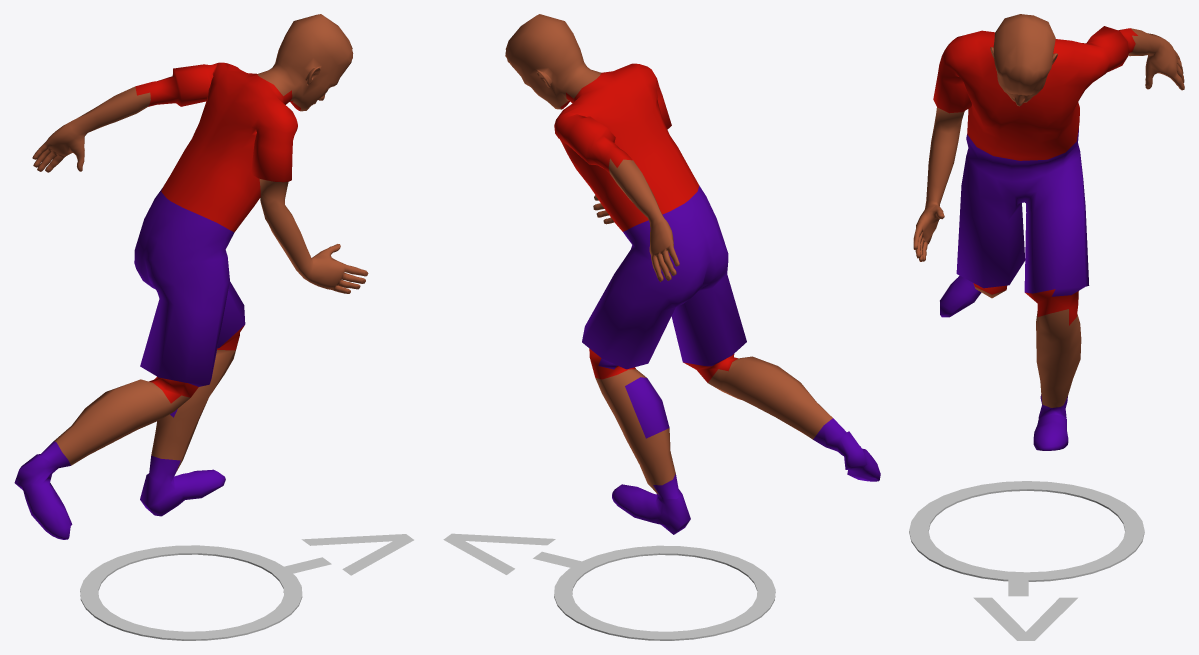
The model's file is player_000010.obj.
3 renders of one model, left to right at view 1: azimuth 30°, elevation 25°; view 2: azimuth 150°, elevation 25°; view 3: azimuth 270°, elevation 25°, orthographic. The views are drawn at different scales.
Visible parts, largest first — view 1: soccerplayer.002_mesh.003, Circle, Text.001_Mesh.001; view 2: soccerplayer.002_mesh.003, Circle, Text.001_Mesh.001; view 3: soccerplayer.002_mesh.003, Circle, Text.001_Mesh.001.
Part boxes in pixels (x1,y1,x2,y2): soccerplayer.002_mesh.003: (14,14,368,539); Circle: (80,545,302,640); Text.001_Mesh.001: (279,534,413,575); soccerplayer.002_mesh.003: (505,14,880,534); Circle: (554,545,775,640); Text.001_Mesh.001: (443,533,584,574); soccerplayer.002_mesh.003: (913,14,1184,450); Circle: (909,481,1144,581); Text.001_Mesh.001: (973,574,1077,640).
Size of the model in its own units: 2.3 by 2.95 by 1.27.
